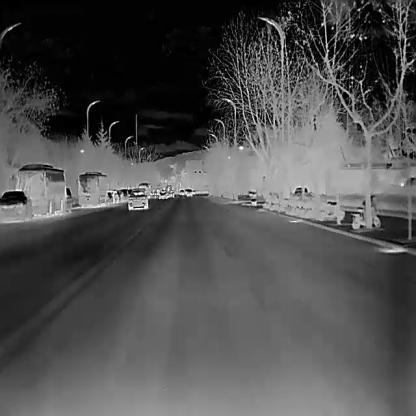car: (8, 162, 66, 215), (75, 170, 106, 206), (0, 190, 34, 218), (127, 187, 148, 210), (100, 188, 119, 204), (137, 182, 150, 198), (118, 187, 128, 201), (157, 189, 167, 199), (185, 187, 193, 197), (167, 190, 174, 198), (179, 189, 184, 195)
